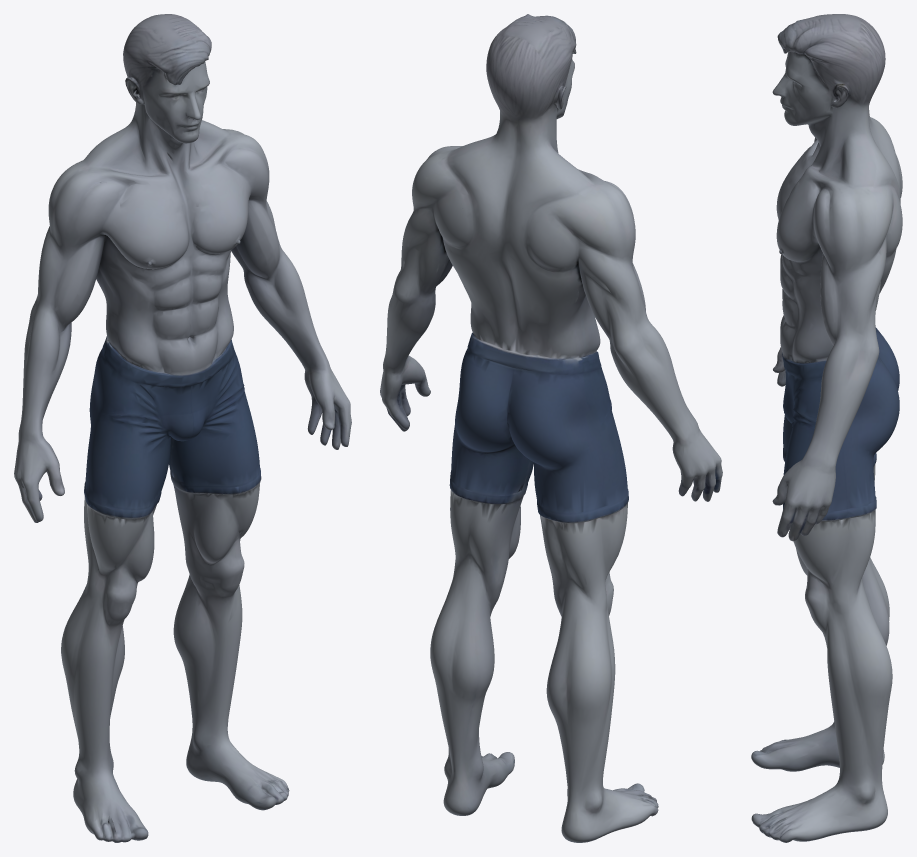
Rendered from cuerpo-hombre.glb.
The picture shows the model from 3 angles, left to right: view 1: azimuth 30°, elevation 25°; view 2: azimuth 150°, elevation 25°; view 3: azimuth 270°, elevation 25°; orthographic projection.
Visible parts, largest first — view 1: node_0; view 2: node_0; view 3: node_0.
Part boxes in pixels (x1,y1,x2,y2): node_0: (14, 14, 351, 842); node_0: (380, 14, 722, 842); node_0: (751, 14, 902, 842).
Size of the model in its own units: 0.5132 by 1.17 by 0.2044.
1 material, 1 textured.
